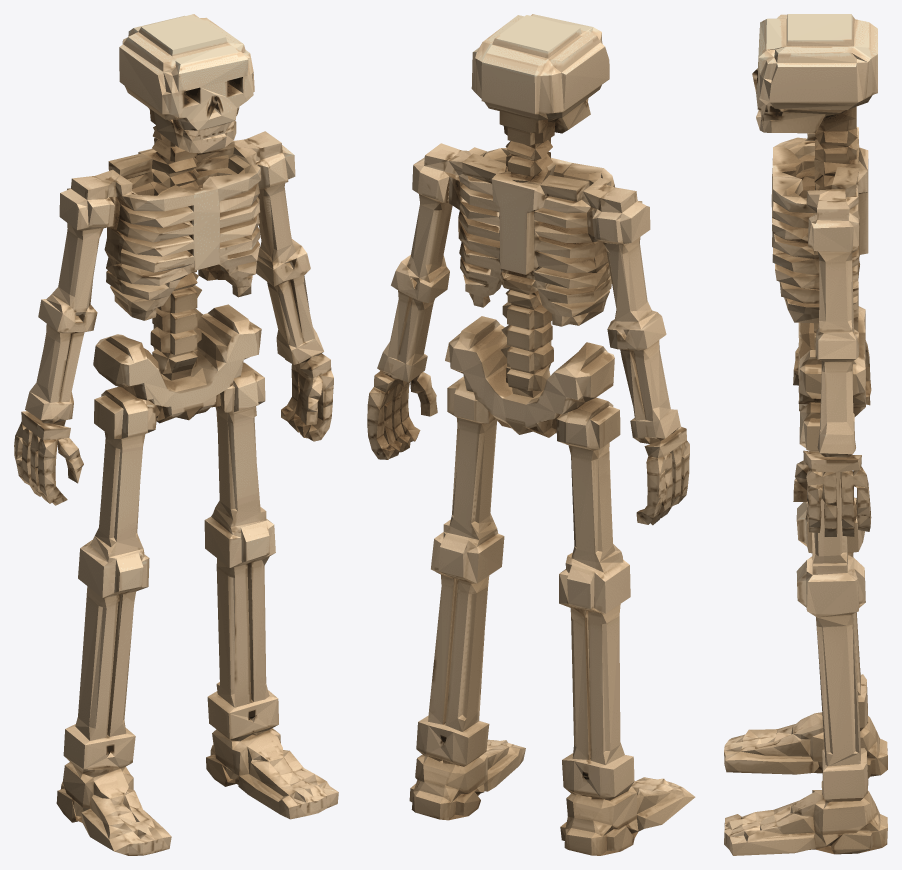
3 views of the same model, side by side, from view 1: azimuth 30°, elevation 25°; view 2: azimuth 150°, elevation 25°; view 3: azimuth 270°, elevation 25° (orthographic).
Parts seen in each view (by area): view 1: node_0.001; view 2: node_0.001; view 3: node_0.001.
Part boxes in pixels (x1,y1,x2,y2): node_0.001: (14, 14, 338, 855); node_0.001: (367, 14, 695, 855); node_0.001: (724, 14, 887, 855).
Bounding box in the file's own units: 0.4562 × 1.15 × 0.2192.
1 material, 1 textured.
